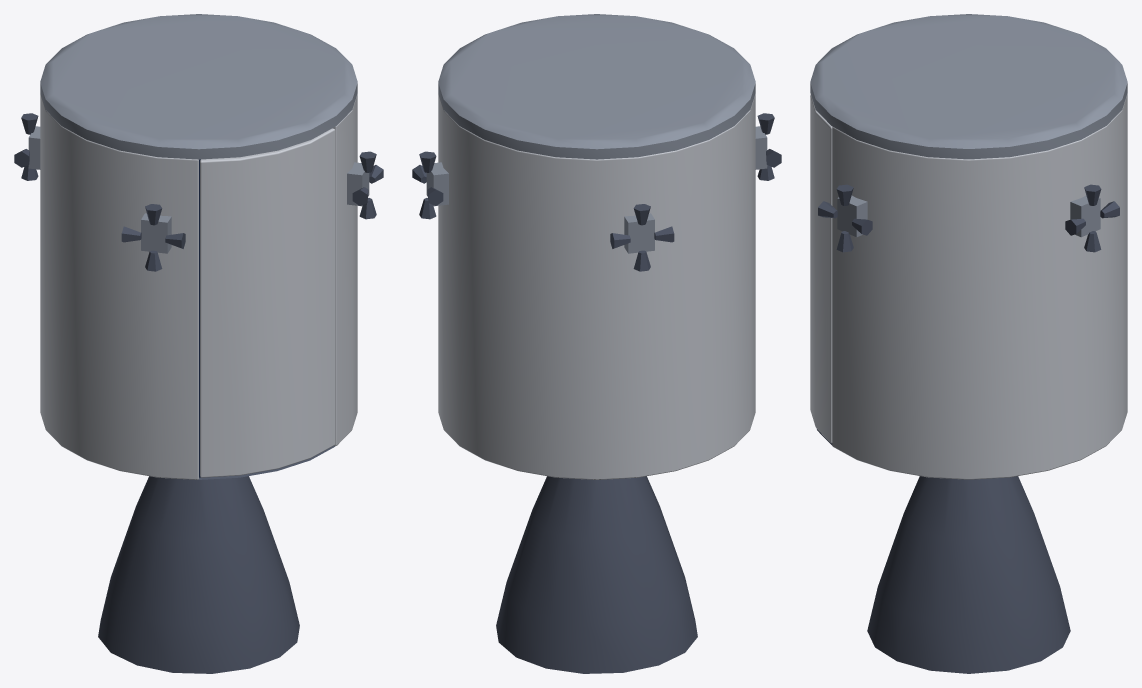
Rendered from Ship_SM.fbx.
3 views of the same model, side by side, from view 1: azimuth 30°, elevation 25°; view 2: azimuth 150°, elevation 25°; view 3: azimuth 270°, elevation 25° (orthographic).
Parts seen in each view (by area): view 1: Ship_SM.Skin, Ship_SM.Move_Panel4, Ship_SM.TopRing, Ship_SM.Nozzle, Ship_SM.Rcs3, Ship_SM.Rcs4, Ship_SM.Rcs2; view 2: Ship_SM.Skin, Ship_SM.TopRing, Ship_SM.Nozzle, Ship_SM.Rcs2, Ship_SM.Rcs1, Ship_SM.Rcs3; view 3: Ship_SM.Skin, Ship_SM.TopRing, Ship_SM.Nozzle, Ship_SM.Move_Panel4, Ship_SM.Rcs1, Ship_SM.Rcs4.
Boxes of the visible parts, <box> form: Ship_SM.Skin: <box>40,94,357,479</box>; Ship_SM.Move_Panel4: <box>200,128,335,477</box>; Ship_SM.TopRing: <box>40,14,357,159</box>; Ship_SM.Nozzle: <box>98,476,299,673</box>; Ship_SM.Rcs3: <box>121,204,185,271</box>; Ship_SM.Rcs4: <box>347,151,383,219</box>; Ship_SM.Rcs2: <box>14,113,40,180</box>; Ship_SM.Skin: <box>438,94,755,479</box>; Ship_SM.TopRing: <box>438,14,755,159</box>; Ship_SM.Nozzle: <box>496,476,697,673</box>; Ship_SM.Rcs2: <box>610,204,674,271</box>; Ship_SM.Rcs1: <box>412,151,448,219</box>; Ship_SM.Rcs3: <box>755,113,781,180</box>; Ship_SM.Skin: <box>832,93,1127,479</box>; Ship_SM.TopRing: <box>810,14,1127,159</box>; Ship_SM.Nozzle: <box>867,476,1070,673</box>; Ship_SM.Move_Panel4: <box>810,94,832,443</box>; Ship_SM.Rcs1: <box>1065,184,1119,252</box>; Ship_SM.Rcs4: <box>818,184,872,252</box>.
Bounding box in the file's own units: 3.9 × 7.5 × 3.9.
1 material, 1 textured.
